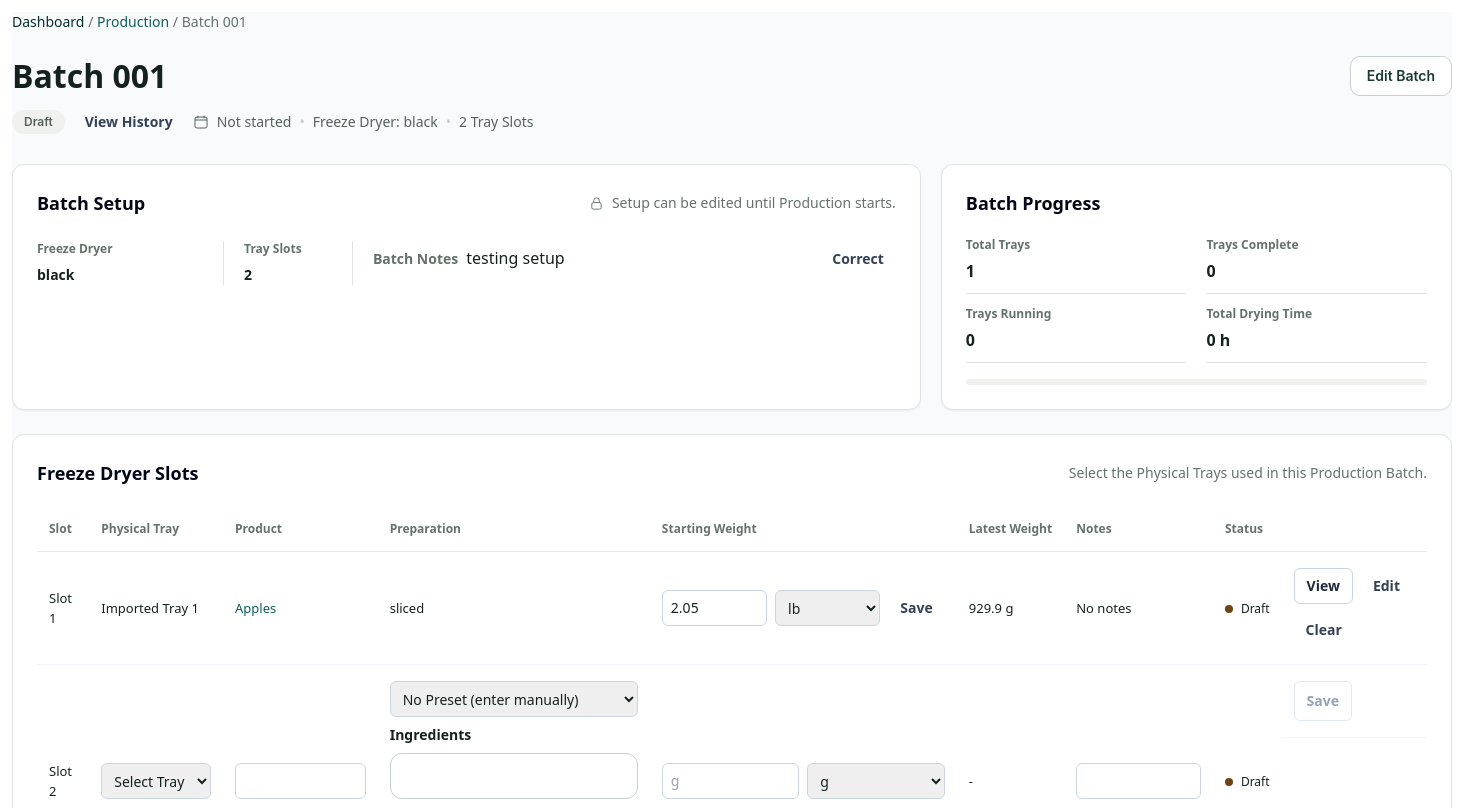
Test: ProductionBatchPage › edits an existing Draft Tray's ingredients and preparation methods
The image size is (1464, 808).
Expected: the link "Apples" is shown, [235,599,276,617]
Click the button "Edit" at (1386, 586), box [1361,568,1412,604]
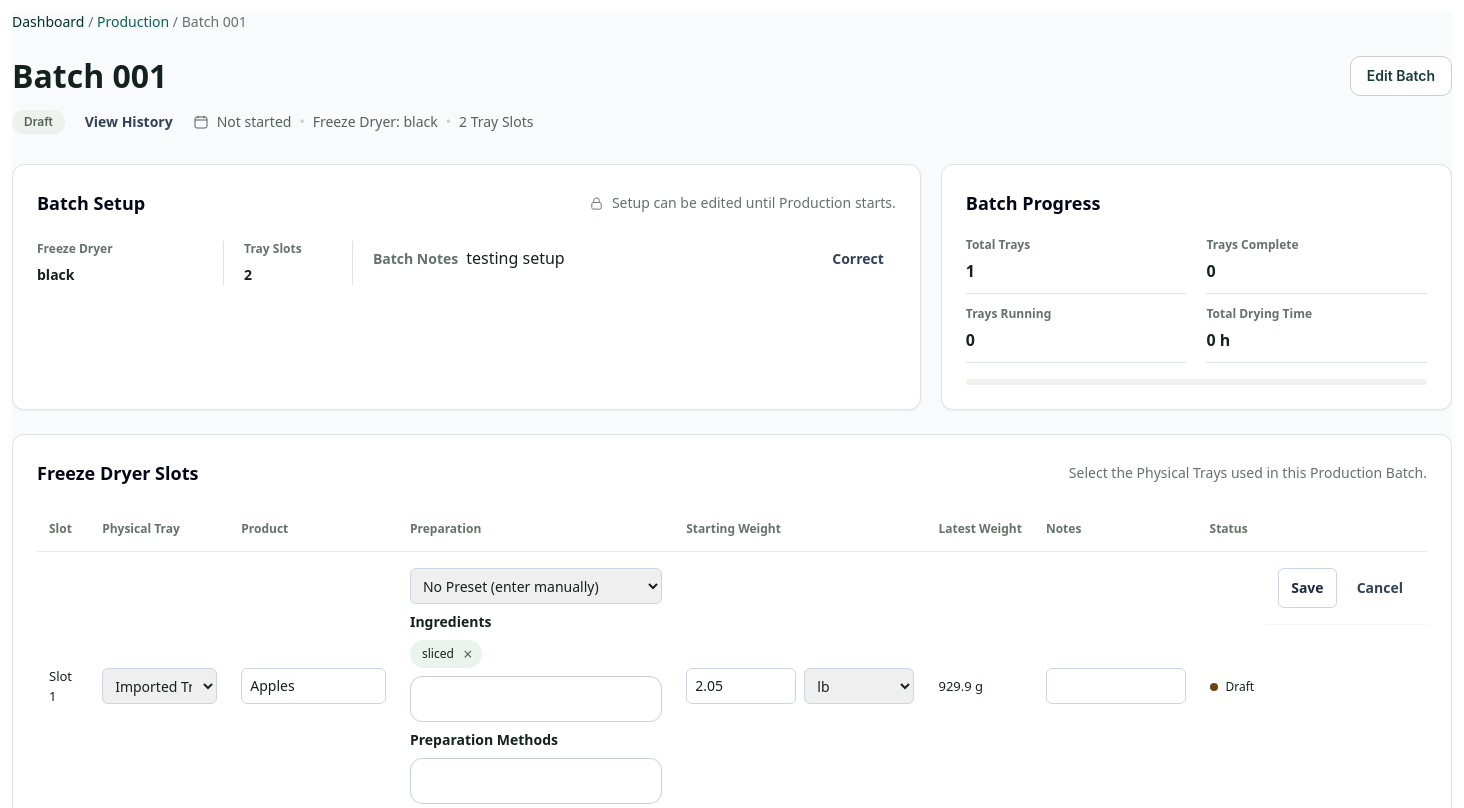
Type "extra crisp" into the dropdown labelled "Ingredients" at (536, 699), box [410,676,662,722]
Then press Enter
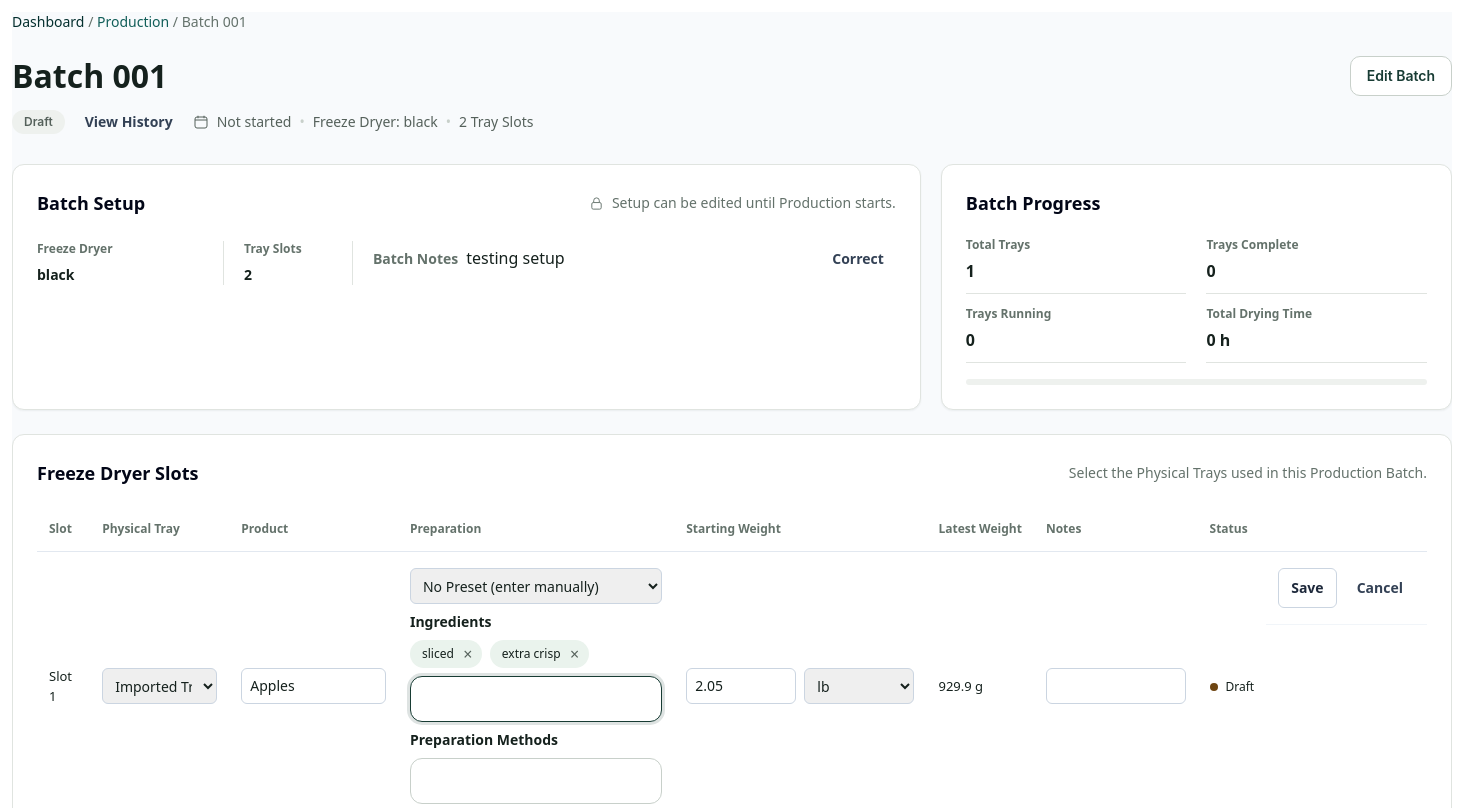
Click the button "Save" at (1307, 588), box [1278,568,1337,608]
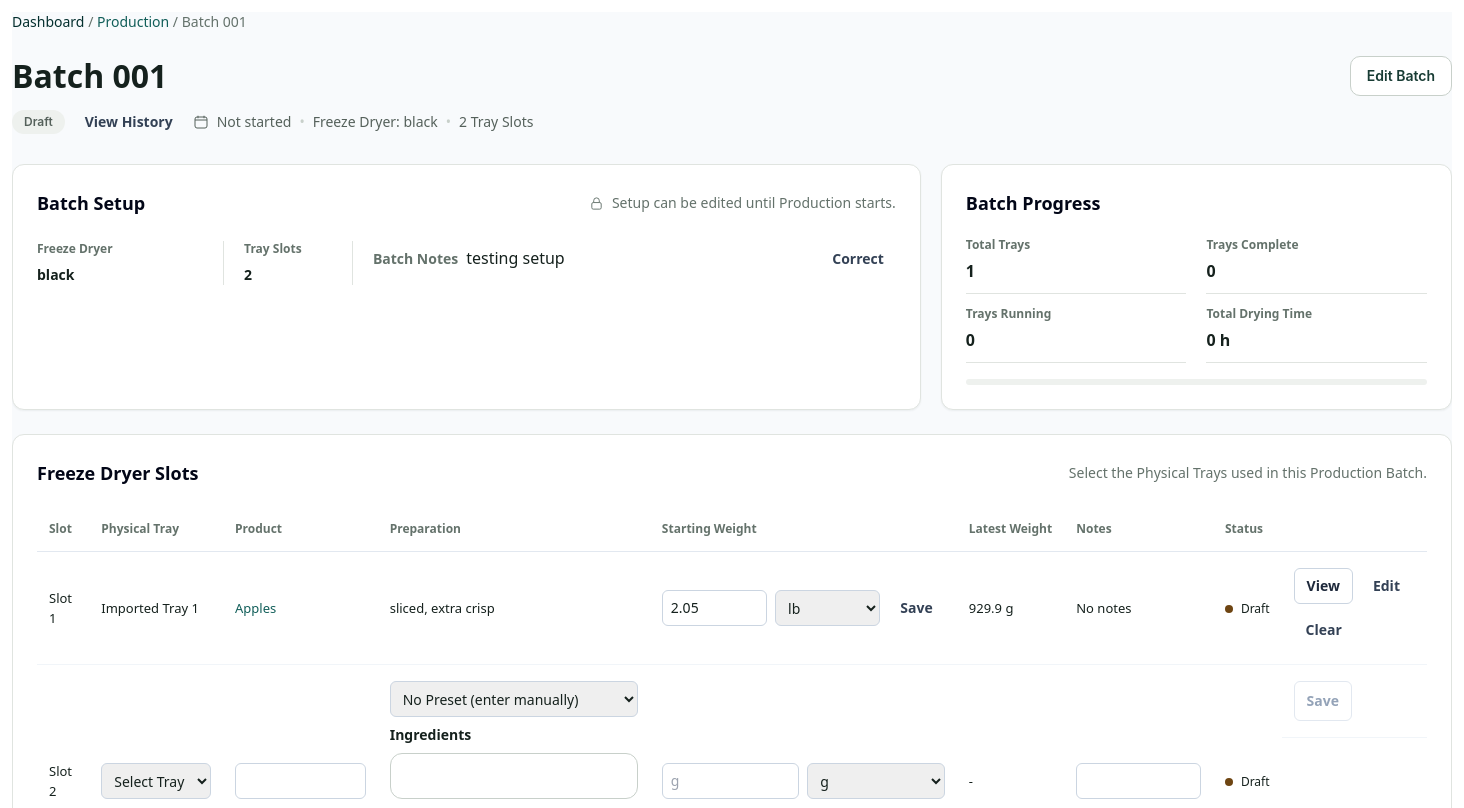
Expected: the text "sliced, extra crisp" is shown, [378,552,650,664]
